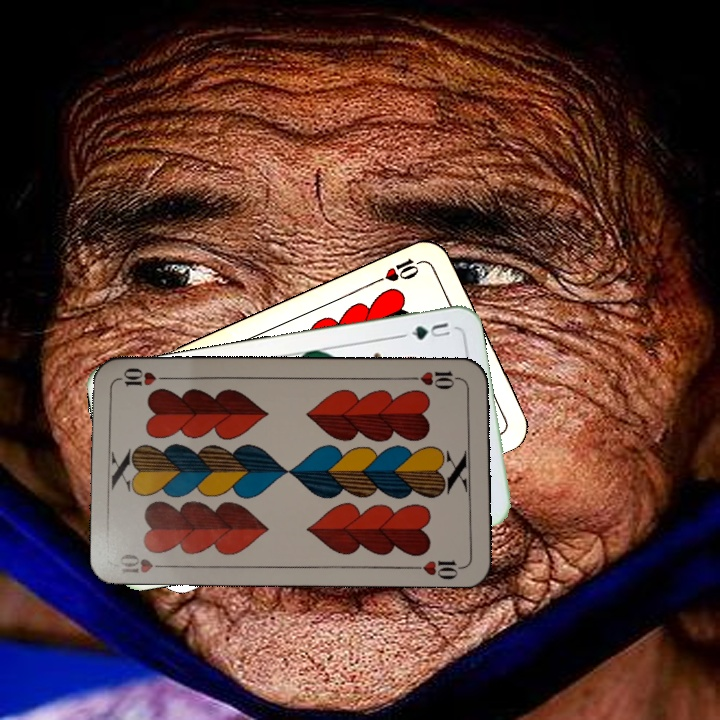GU: (397, 318, 453, 343)
H10: (115, 549, 174, 576), (406, 367, 465, 392), (381, 254, 428, 284)
